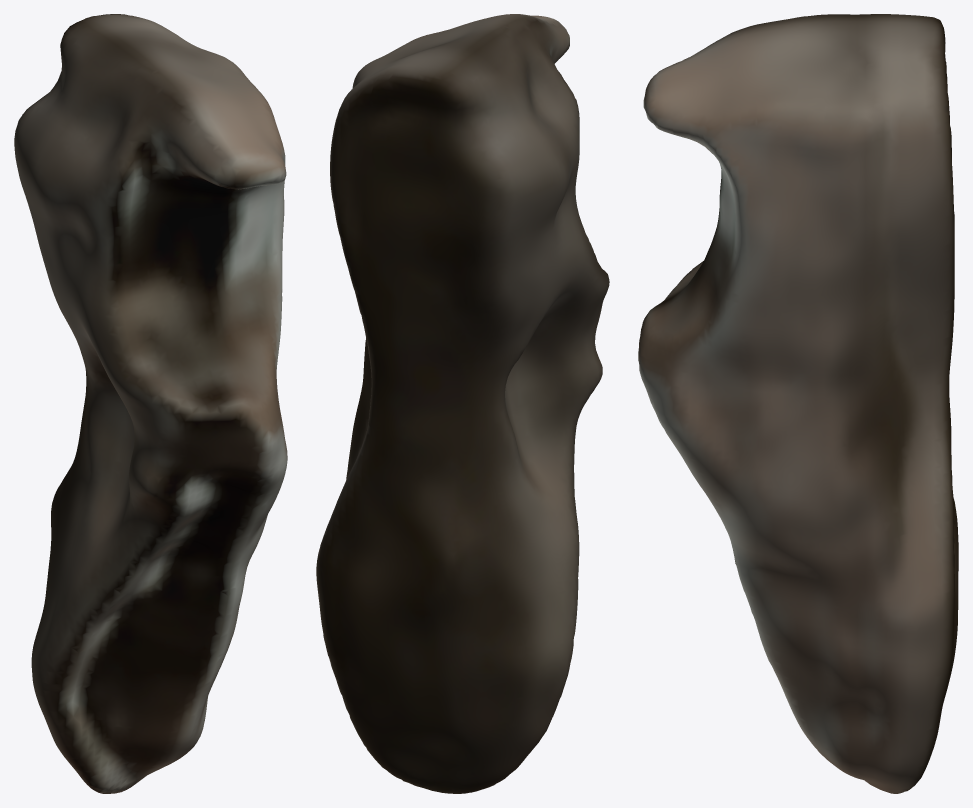
File: shoe3.glb
3 renders of one model, left to right at view 1: azimuth 30°, elevation 25°; view 2: azimuth 150°, elevation 25°; view 3: azimuth 270°, elevation 25°, orthographic. The views are drawn at different scales.
Size of the model in its own units: 0.295 by 0.9992 by 0.3803.
